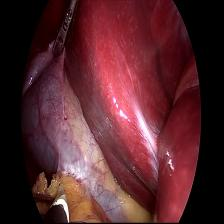Grasper: (49, 3, 81, 68)
Hook: (48, 169, 70, 224)
